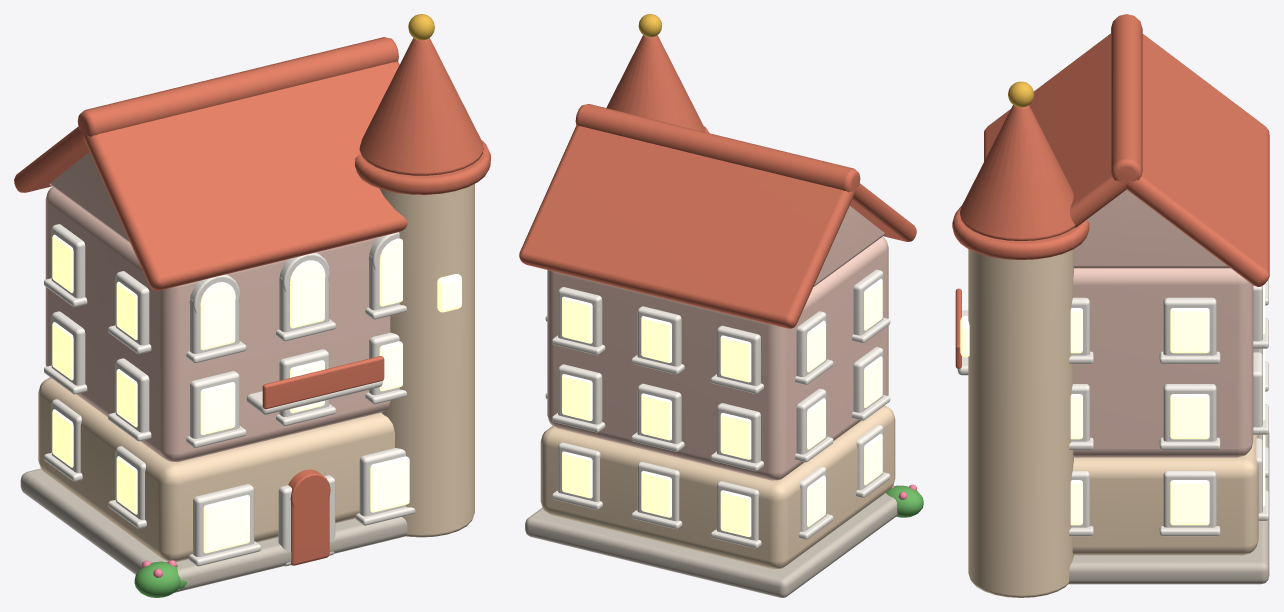
The picture shows the model from 3 angles, left to right: view 1: azimuth 30°, elevation 25°; view 2: azimuth 150°, elevation 25°; view 3: azimuth 270°, elevation 25°; orthographic projection. The views are drawn at different scales.
Visible parts, largest first — view 1: Cube; view 2: Cube; view 3: Cube.
Boxes of the visible parts, left/top/right/bottom form: Cube: left=14, top=14, right=490, bottom=597; Cube: left=519, top=14, right=923, bottom=597; Cube: left=952, top=14, right=1269, bottom=597.
Size of the model in its own units: 0.768 by 1.04 by 0.6006.
